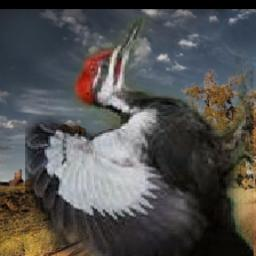Woodpecker: (25, 14, 254, 256)
